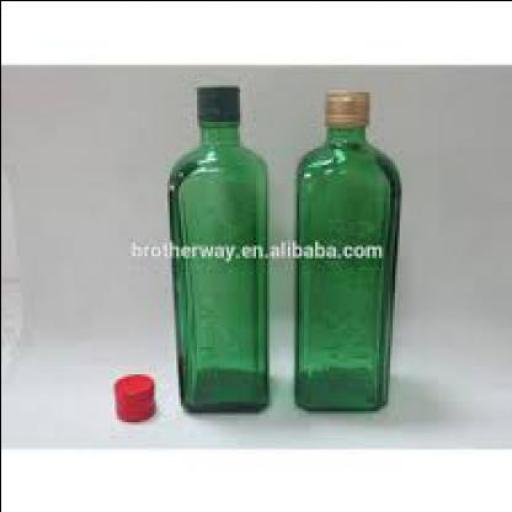glass: (166, 116, 268, 410), (291, 125, 396, 405)
metal: (109, 367, 151, 421), (191, 81, 239, 123), (319, 81, 367, 123)
